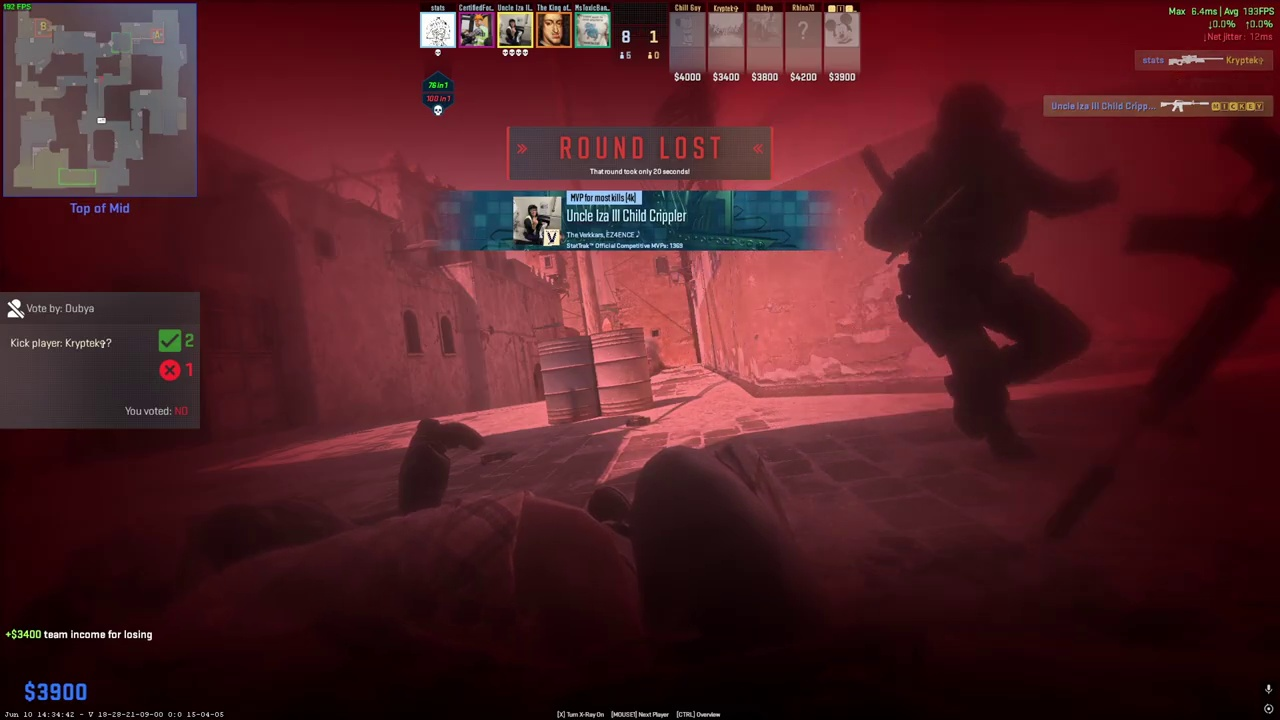CT: (888, 81, 1092, 466)
